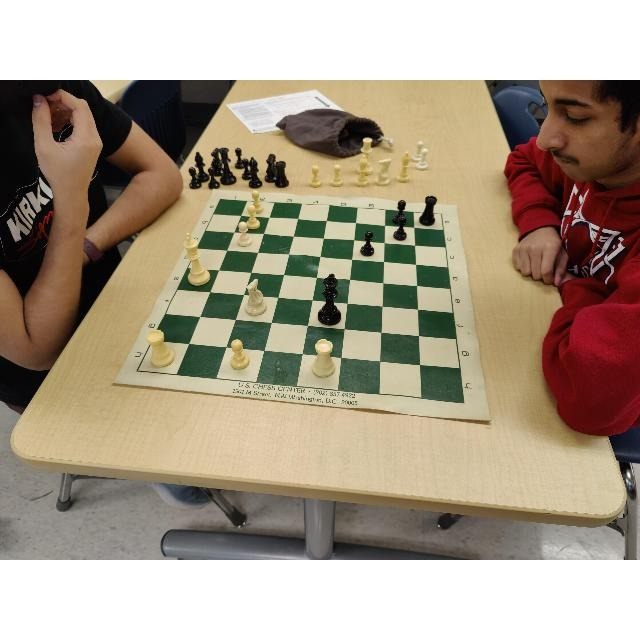black-king: (318, 273, 342, 324)
black-pawn: (394, 216, 408, 242), (360, 231, 374, 256), (393, 200, 407, 224)
black-rook: (419, 196, 438, 226)
white-king: (184, 233, 210, 285)
white-knight: (245, 278, 267, 315)
white-pawn: (231, 339, 250, 370), (237, 221, 252, 247), (247, 205, 260, 229), (252, 190, 264, 214)
white-rook: (147, 331, 174, 367), (312, 338, 336, 377)
